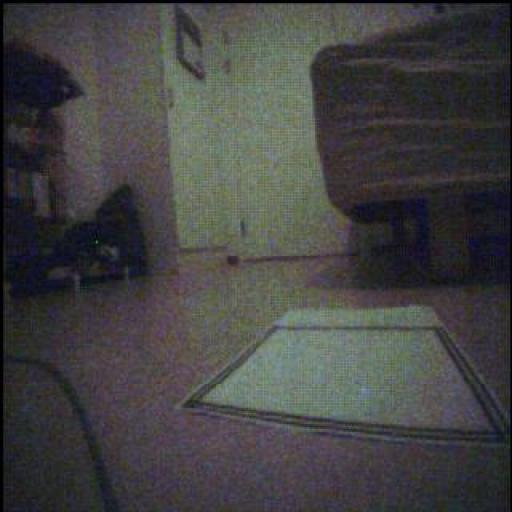pad: (182, 308, 511, 446)
